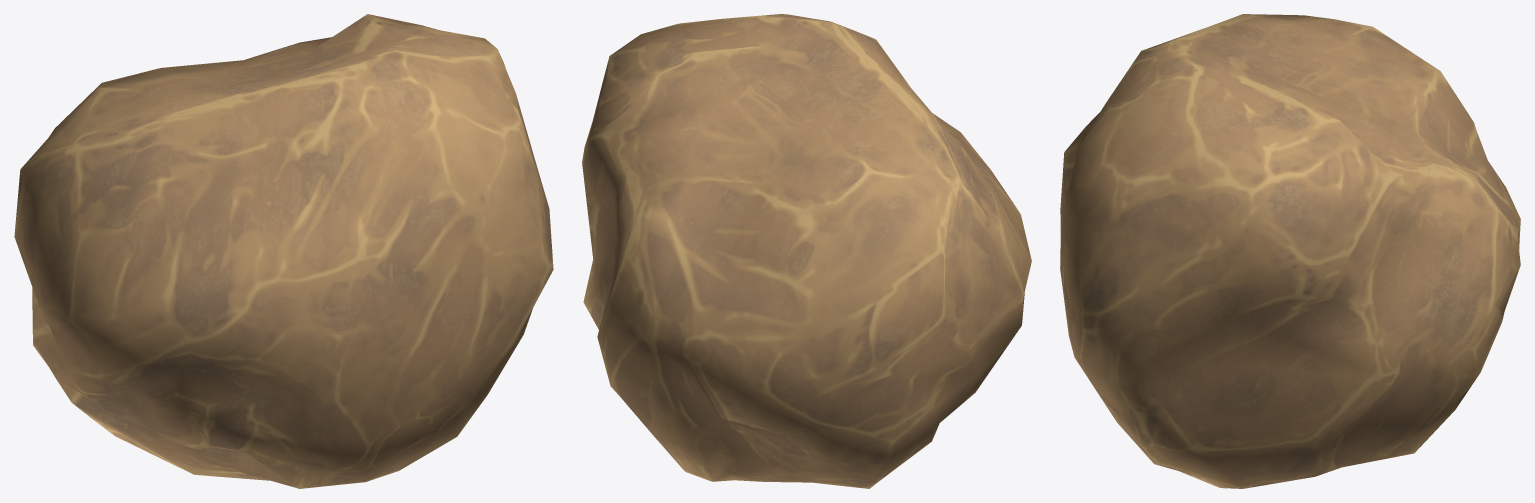
File: Obstáculo Roca.fbx
3 views of the same model, side by side, from view 1: azimuth 30°, elevation 25°; view 2: azimuth 150°, elevation 25°; view 3: azimuth 270°, elevation 25° (orthographic). The views are drawn at different scales.
Visible parts, largest first — view 1: Obstáculo Roca; view 2: Obstáculo Roca; view 3: Obstáculo Roca.
Part boxes in pixels (box(x1,y1,x2,y2)): Obstáculo Roca: box(14, 14, 553, 488); Obstáculo Roca: box(582, 14, 1031, 488); Obstáculo Roca: box(1060, 14, 1520, 488).
Bounding box in the file's own units: 139 × 130 × 129.
Materials: 1 (1 with a texture image).
